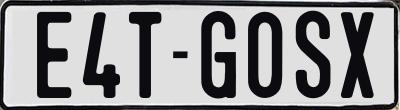0: (246, 9, 282, 97)
4: (82, 9, 120, 95)
E: (34, 11, 72, 103)
G: (200, 10, 235, 99)
S: (296, 9, 336, 96)
T: (127, 11, 161, 99)
X: (339, 12, 378, 99)
